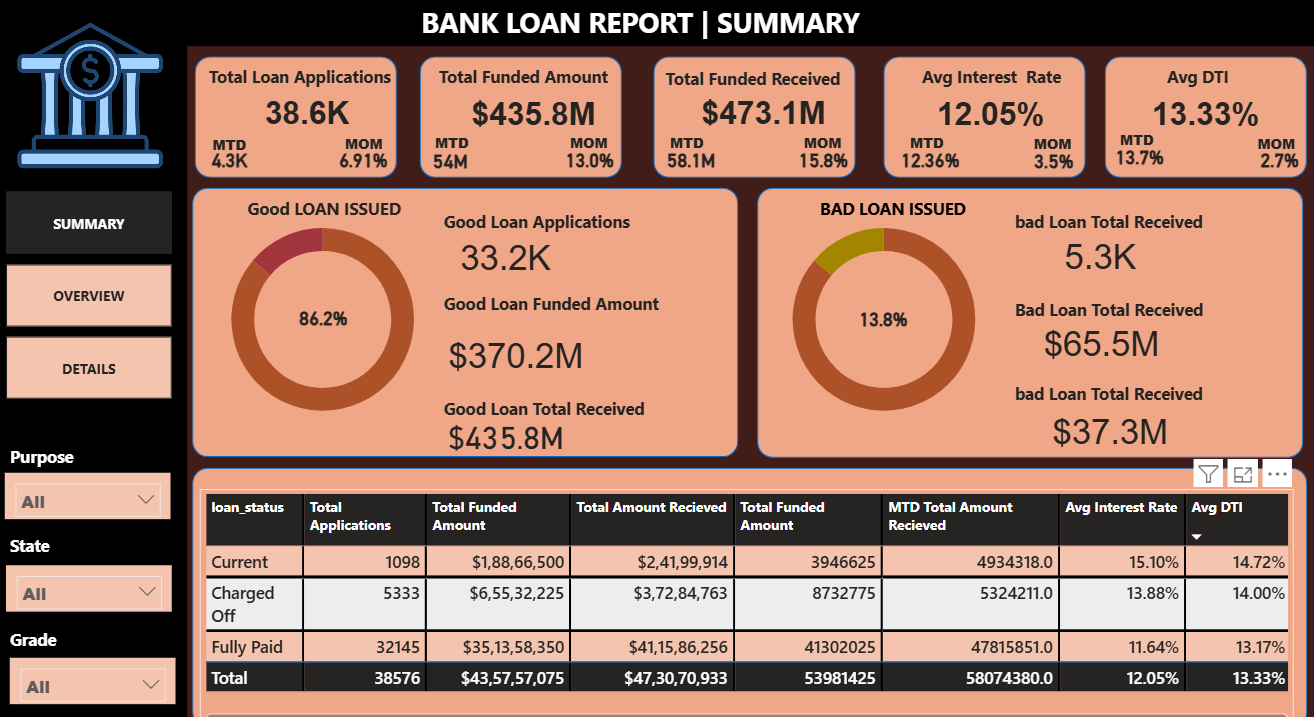

The page's visual inventory and layout, read from the dashboard file:
{"tool":"powerbi","page":{"name":"SUMMARY","canvas":[1280,720],"ordinal":0},"visuals":[{"type":"shape","box":[2.4,3.6,182.2,716.6],"z":0},{"type":"shape","box":[182.2,0,1097.9,50.7],"z":1000},{"type":"shape","box":[856.2,60,195,117],"z":1000,"group":"g5"},{"type":"shape","box":[1070.3,60,195,117],"z":2000,"group":"g2"},{"type":"shape","box":[189.4,457.2,1076.1,250.9],"z":2000},{"type":"shape","box":[633.9,60.3,195,117],"z":3000,"group":"g4"},{"type":"shape","box":[734.7,187,527,260.6],"z":3000},{"type":"shape","box":[408.9,60,195,117],"z":4000,"group":"g3"},{"type":"shape","box":[189.4,187,527,260],"z":4000},{"type":"shape","box":[192.1,60,195,117],"z":5000,"group":"g1"},{"type":"donutChart","fields":{"Y":["financial_loan (1) (1).Total Applications"],"Category":["financial_loan (1) (1).god_bad"]},"box":[190.6,199.1,249.7,230.4],"z":5000},{"type":"card","fields":{"Values":["financial_loan (1) (1).Good_loan%"]},"box":[281.1,295.6,70,36.2],"z":6000},{"type":"card","fields":{"Values":["financial_loan (1) (1).bad%"]},"box":[819.2,290.8,74.8,47.1],"z":7000},{"type":"card","fields":{"Values":["financial_loan (1) (1).Good_count"]},"box":[429.5,229.2,124.9,49.4],"z":8000},{"type":"card","fields":{"Values":["financial_loan (1) (1).Total Funded Amount"]},"box":[429.5,401.7,125.5,49.5],"z":9000},{"type":"card","fields":{"Values":["financial_loan (1) (1).TFAG"]},"box":[430.7,313.7,142.4,70],"z":10000},{"type":"textbox","box":[426.8,204.5,196.2,38.4],"z":11000},{"type":"textbox","box":[426.8,282.7,220.9,41.2],"z":12000},{"type":"textbox","box":[426.8,384.2,212.7,38.4],"z":13000},{"type":"card","title":"Total Loan Applications","fields":{"Values":["financial_loan (1) (1).Total Applications"]},"box":[230.5,96.5,140,35.7],"z":14000,"group":"g1"},{"type":"card","fields":{"Values":["financial_loan (1) (1).BAD loan"]},"box":[1012.2,396.9,126.7,49.5],"z":14000},{"type":"card","fields":{"Values":["financial_loan (1) (1).Total Funded Amount"]},"box":[448.8,96.8,140,35],"z":15000,"group":"g3"},{"type":"card","fields":{"Values":["financial_loan (1) (1).bad_loan applications"]},"box":[1005.8,233.3,119.4,39.8],"z":15000},{"type":"card","fields":{"Values":["financial_loan (1) (1).SUM"]},"box":[670.3,96.8,140,35],"z":16000,"group":"g4"},{"type":"card","fields":{"Values":["financial_loan (1) (1).bad_loan_rec"]},"box":[1005,313.7,124.3,45.8],"z":16000},{"type":"textbox","box":[978.4,369.1,212.7,38.4],"z":17000},{"type":"card","fields":{"Values":["financial_loan (1) (1).avg_int"]},"box":[889.8,96.8,140,35],"z":18000,"group":"g5"},{"type":"textbox","box":[978.4,288.2,212.7,38.4],"z":18000},{"type":"card","fields":{"Values":["financial_loan (1) (1).avg_dti"]},"box":[1098.6,96.8,140,35],"z":19000,"group":"g2"},{"type":"textbox","box":[978.4,204.5,212.7,38.4],"z":19000},{"type":"textbox","box":[405.4,3.6,454.8,47.1],"z":20000},{"type":"textbox","box":[200.3,63.9,199.1,32.6],"z":20000,"group":"g1"},{"type":"group","id":"g1","title":"Group 1","box":[192.1,60,207.2,117],"z":21000},{"type":"group","id":"g2","title":"Group 2","box":[1070.3,60,199,117],"z":22000},{"type":"group","id":"g3","title":"Group 5","box":[408.9,60,644.3,117.3],"z":23000},{"type":"donutChart","fields":{"Category":["financial_loan (1) (1).god_bad"],"Y":["financial_loan (1) (1).Total Applications"]},"box":[732.3,199.1,249.7,230.4],"z":24000},{"type":"textbox","box":[422.2,63.9,194.2,32.6],"z":25000,"group":"g3"},{"type":"tableEx","fields":{"Values":["financial_loan (1) (1).loan_status","financial_loan (1) (1).Total Applications","financial_loan (1) (1).Total Funded Amount","financial_loan (1) (1).SUM","financial_loan (1) (1).TFA","financial_loan (1) (1).TTL","financial_loan (1) (1).avg_int","financial_loan (1) (1).avg_dti"]},"box":[196.6,477.8,1055.6,230.4],"z":25000},{"type":"image","box":[13.3,22.9,155.6,150.8],"z":26000},{"type":"textbox","box":[634.5,65.1,189.4,42.2],"z":26000,"group":"g4"},{"type":"textbox","box":[866.2,63.9,187,32.6],"z":27000,"group":"g5"},{"type":"slicer","fields":{"Values":["financial_loan (1) (1).address_state"]},"box":[9.7,551.1,160,45],"z":27000},{"type":"textbox","box":[1099,63.9,121.9,32.6],"z":28000,"group":"g2"},{"type":"textbox","box":[8.4,516.4,71.2,35],"z":28000},{"type":"slicer","fields":{"Values":["financial_loan (1) (1).grade"]},"box":[13.3,640.6,160,45],"z":29000},{"type":"textbox","box":[8.4,606.8,74.8,33.8],"z":30000},{"type":"slicer","fields":{"Values":["financial_loan (1) (1).purpose"]},"box":[8.2,461.6,160,45],"z":31000},{"type":"textbox","box":[8.4,430.7,95.3,35],"z":32000},{"type":"textbox","box":[218.4,190.6,196.6,38.6],"z":33000},{"type":"textbox","box":[767.3,190.6,196.6,38.6],"z":34000},{"type":"pageNavigator","box":[10.1,190.6,160,200],"z":35000},{"type":"card","fields":{"Values":["financial_loan (1) (1).currant_mtd."]},"box":[196.2,145.4,60.4,30.2],"z":41000,"group":"g1"},{"type":"card","fields":{"Values":["financial_loan (1) (1).mom"]},"box":[325.2,145.4,60.4,30.2],"z":42000,"group":"g1"},{"type":"textbox","box":[204.4,131.7,49.4,30.2],"z":43000,"group":"g1"},{"type":"textbox","box":[332.1,130.3,49.4,30.2],"z":44000,"group":"g1"},{"type":"card","fields":{"Values":["financial_loan (1) (1).TFA"]},"box":[408.9,146.8,59,26.1],"z":45000,"group":"g3"},{"type":"card","fields":{"Values":["financial_loan (1) (1).mom_3"]},"box":[543.4,145.4,60.4,30.2],"z":46000,"group":"g3"},{"type":"textbox","box":[418.5,128.9,49.4,30.2],"z":47000,"group":"g3"},{"type":"textbox","box":[548.9,128.9,49.4,30.2],"z":48000,"group":"g3"},{"type":"card","fields":{"Values":["financial_loan (1) (1).TTL"]},"box":[639.4,145.4,60.4,30.2],"z":49000,"group":"g4"},{"type":"card","fields":{"Values":["financial_loan (1) (1).MOM_4"]},"box":[768.4,145.4,60.4,30.2],"z":50000,"group":"g4"},{"type":"textbox","box":[644.9,128.9,49.4,30.2],"z":51000,"group":"g4"},{"type":"textbox","box":[773.9,128.9,49.4,30.2],"z":52000,"group":"g4"},{"type":"card","fields":{"Values":["financial_loan (1) (1).avd_mtd"]},"box":[867.2,145.4,68.6,30.2],"z":53000,"group":"g5"},{"type":"card","fields":{"Values":["financial_loan (1) (1).avd_mom"]},"box":[990.7,146.8,59,30.2],"z":54000,"group":"g5"},{"type":"card","fields":{"Values":["financial_loan (1) (1).dti_mtd"]},"box":[1074.4,141.3,60.4,34.3],"z":55000,"group":"g2"},{"type":"card","fields":{"Values":["financial_loan (1) (1).dti_mom"]},"box":[1208.9,145.4,60.4,30.2],"z":56000,"group":"g2"},{"type":"textbox","box":[996.2,130.3,49.4,30.2],"z":57000,"group":"g5"},{"type":"textbox","box":[876.8,128.9,49.4,30.2],"z":58000,"group":"g5"},{"type":"textbox","box":[1213,130.3,49.4,30.2],"z":59000,"group":"g2"},{"type":"textbox","box":[1079.9,126.2,49.4,30.2],"z":60000,"group":"g2"},{"type":"group","id":"g4","title":"Group 3","box":[633.9,60.3,195,117],"z":62003,"group":"g5"},{"type":"group","id":"g5","title":"Group 4","box":[633.9,60,419.3,117.3],"z":62004,"group":"g3"}]}

Visuals, with their boxes on the page's 1280x720 design canvas (x1, y1, x2, y2). These are canvas units, not pixel positions in the 1314x717 screenshot, which may show the page scaled, cropped or inside an application window:
shape: pyautogui.locateOnScreen(2, 4, 185, 720)
shape: pyautogui.locateOnScreen(182, 0, 1280, 51)
shape: pyautogui.locateOnScreen(856, 60, 1051, 177)
shape: pyautogui.locateOnScreen(1070, 60, 1265, 177)
shape: pyautogui.locateOnScreen(189, 457, 1266, 708)
shape: pyautogui.locateOnScreen(634, 60, 829, 177)
shape: pyautogui.locateOnScreen(735, 187, 1262, 448)
shape: pyautogui.locateOnScreen(409, 60, 604, 177)
shape: pyautogui.locateOnScreen(189, 187, 716, 447)
shape: pyautogui.locateOnScreen(192, 60, 387, 177)
donutChart - financial_loan (1) (1).Total Applications x financial_loan (1) (1).god_bad: pyautogui.locateOnScreen(191, 199, 440, 430)
card - financial_loan (1) (1).Good_loan%: pyautogui.locateOnScreen(281, 296, 351, 332)
card - financial_loan (1) (1).bad%: pyautogui.locateOnScreen(819, 291, 894, 338)
card - financial_loan (1) (1).Good_count: pyautogui.locateOnScreen(430, 229, 554, 279)
card - financial_loan (1) (1).Total Funded Amount: pyautogui.locateOnScreen(430, 402, 555, 451)
card - financial_loan (1) (1).TFAG: pyautogui.locateOnScreen(431, 314, 573, 384)
textbox: pyautogui.locateOnScreen(427, 204, 623, 243)
textbox: pyautogui.locateOnScreen(427, 283, 648, 324)
textbox: pyautogui.locateOnScreen(427, 384, 640, 423)
"Total Loan Applications" card: pyautogui.locateOnScreen(230, 96, 370, 132)
card - financial_loan (1) (1).BAD loan: pyautogui.locateOnScreen(1012, 397, 1139, 446)
card - financial_loan (1) (1).Total Funded Amount: pyautogui.locateOnScreen(449, 97, 589, 132)
card - financial_loan (1) (1).bad_loan applications: pyautogui.locateOnScreen(1006, 233, 1125, 273)
card - financial_loan (1) (1).SUM: pyautogui.locateOnScreen(670, 97, 810, 132)
card - financial_loan (1) (1).bad_loan_rec: pyautogui.locateOnScreen(1005, 314, 1129, 360)
textbox: pyautogui.locateOnScreen(978, 369, 1191, 408)
card - financial_loan (1) (1).avg_int: pyautogui.locateOnScreen(890, 97, 1030, 132)
textbox: pyautogui.locateOnScreen(978, 288, 1191, 327)
card - financial_loan (1) (1).avg_dti: pyautogui.locateOnScreen(1099, 97, 1239, 132)
textbox: pyautogui.locateOnScreen(978, 204, 1191, 243)
textbox: pyautogui.locateOnScreen(405, 4, 860, 51)
textbox: pyautogui.locateOnScreen(200, 64, 399, 96)
"Group 1" group: pyautogui.locateOnScreen(192, 60, 399, 177)
"Group 2" group: pyautogui.locateOnScreen(1070, 60, 1269, 177)
"Group 5" group: pyautogui.locateOnScreen(409, 60, 1053, 177)
donutChart - financial_loan (1) (1).god_bad x financial_loan (1) (1).Total Applications: pyautogui.locateOnScreen(732, 199, 982, 430)
textbox: pyautogui.locateOnScreen(422, 64, 616, 96)
tableEx - financial_loan (1) (1).loan_status x financial_loan (1) (1).Total Applications: pyautogui.locateOnScreen(197, 478, 1252, 708)
image: pyautogui.locateOnScreen(13, 23, 169, 174)
textbox: pyautogui.locateOnScreen(634, 65, 824, 107)
textbox: pyautogui.locateOnScreen(866, 64, 1053, 96)
slicer - financial_loan (1) (1).address_state: pyautogui.locateOnScreen(10, 551, 170, 596)
textbox: pyautogui.locateOnScreen(1099, 64, 1221, 96)
textbox: pyautogui.locateOnScreen(8, 516, 80, 551)
slicer - financial_loan (1) (1).grade: pyautogui.locateOnScreen(13, 641, 173, 686)
textbox: pyautogui.locateOnScreen(8, 607, 83, 641)
slicer - financial_loan (1) (1).purpose: pyautogui.locateOnScreen(8, 462, 168, 507)
textbox: pyautogui.locateOnScreen(8, 431, 104, 466)
textbox: pyautogui.locateOnScreen(218, 191, 415, 229)
textbox: pyautogui.locateOnScreen(767, 191, 964, 229)
pageNavigator: pyautogui.locateOnScreen(10, 191, 170, 391)
card - financial_loan (1) (1).currant_mtd.: pyautogui.locateOnScreen(196, 145, 257, 176)
card - financial_loan (1) (1).mom: pyautogui.locateOnScreen(325, 145, 386, 176)
textbox: pyautogui.locateOnScreen(204, 132, 254, 162)
textbox: pyautogui.locateOnScreen(332, 130, 382, 160)
card - financial_loan (1) (1).TFA: pyautogui.locateOnScreen(409, 147, 468, 173)
card - financial_loan (1) (1).mom_3: pyautogui.locateOnScreen(543, 145, 604, 176)
textbox: pyautogui.locateOnScreen(418, 129, 468, 159)
textbox: pyautogui.locateOnScreen(549, 129, 598, 159)
card - financial_loan (1) (1).TTL: pyautogui.locateOnScreen(639, 145, 700, 176)
card - financial_loan (1) (1).MOM_4: pyautogui.locateOnScreen(768, 145, 829, 176)
textbox: pyautogui.locateOnScreen(645, 129, 694, 159)
textbox: pyautogui.locateOnScreen(774, 129, 823, 159)
card - financial_loan (1) (1).avd_mtd: pyautogui.locateOnScreen(867, 145, 936, 176)
card - financial_loan (1) (1).avd_mom: pyautogui.locateOnScreen(991, 147, 1050, 177)
card - financial_loan (1) (1).dti_mtd: pyautogui.locateOnScreen(1074, 141, 1135, 176)
card - financial_loan (1) (1).dti_mom: pyautogui.locateOnScreen(1209, 145, 1269, 176)
textbox: pyautogui.locateOnScreen(996, 130, 1046, 160)
textbox: pyautogui.locateOnScreen(877, 129, 926, 159)
textbox: pyautogui.locateOnScreen(1213, 130, 1262, 160)
textbox: pyautogui.locateOnScreen(1080, 126, 1129, 156)
"Group 3" group: pyautogui.locateOnScreen(634, 60, 829, 177)
"Group 4" group: pyautogui.locateOnScreen(634, 60, 1053, 177)
